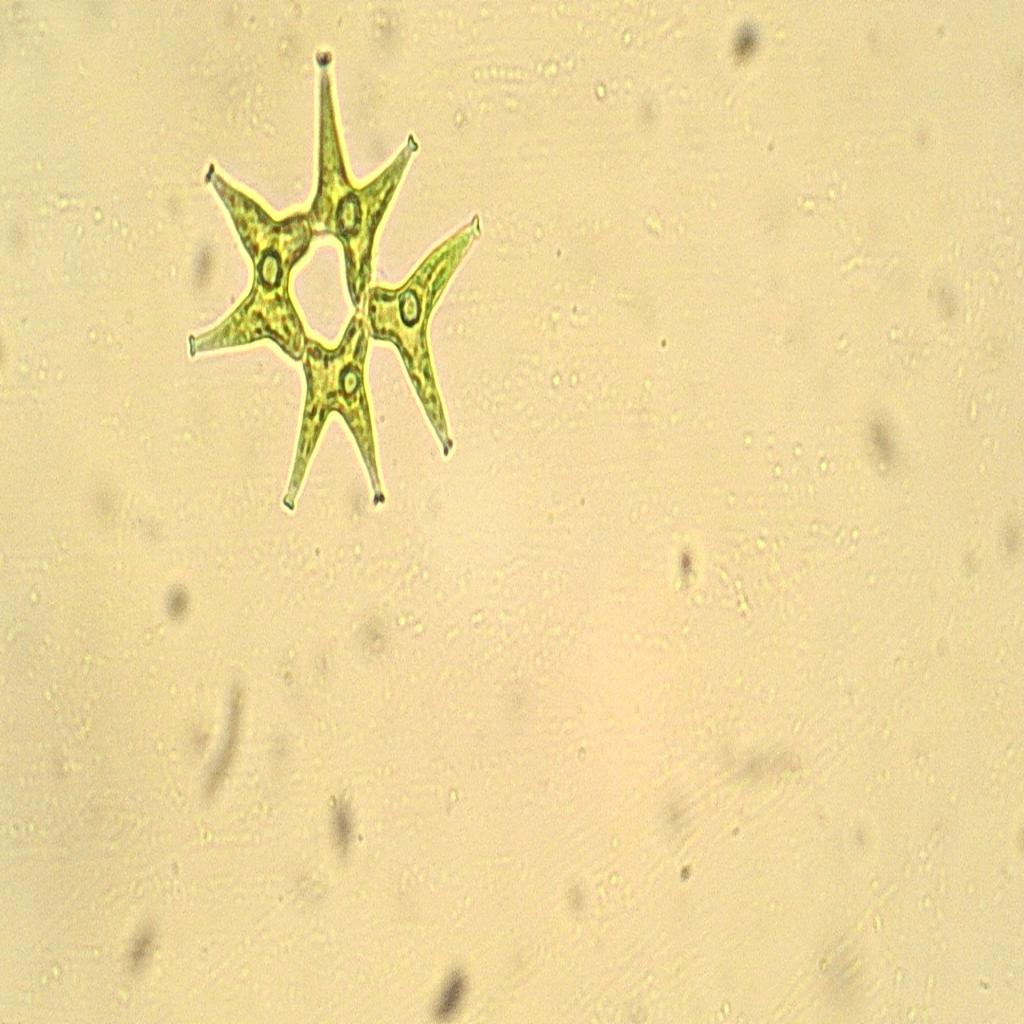Pediastrum_CT: (178, 39, 492, 535)
